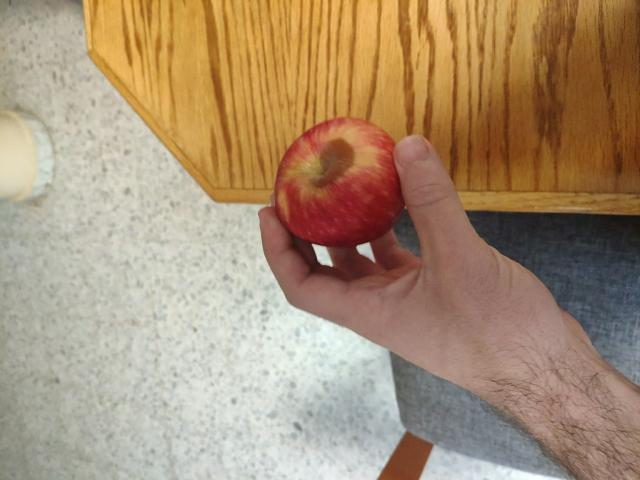apple: (268, 121, 418, 258)
